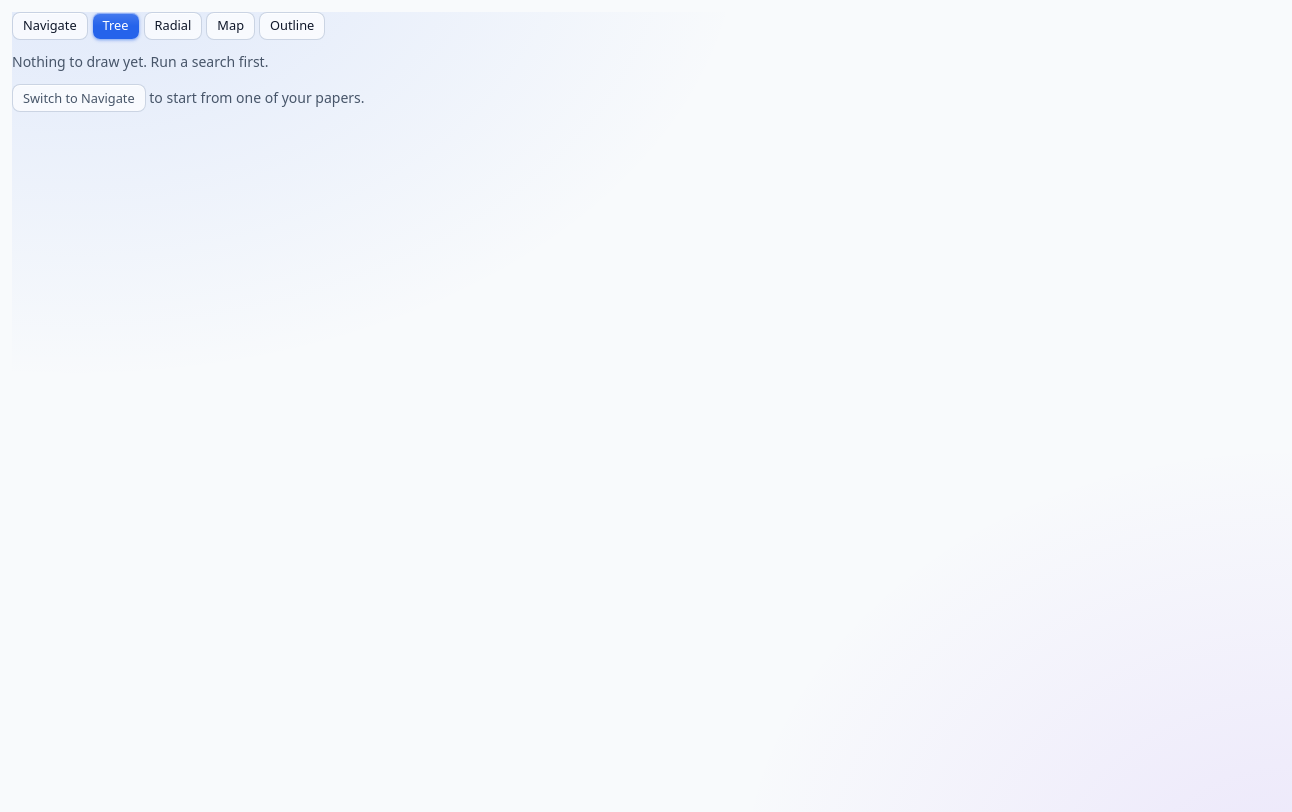
Test: Tree view with no runs hints at Navigate and the button switches
Click the button "Switch to Navigate" at (79, 98), box [12, 84, 146, 112]
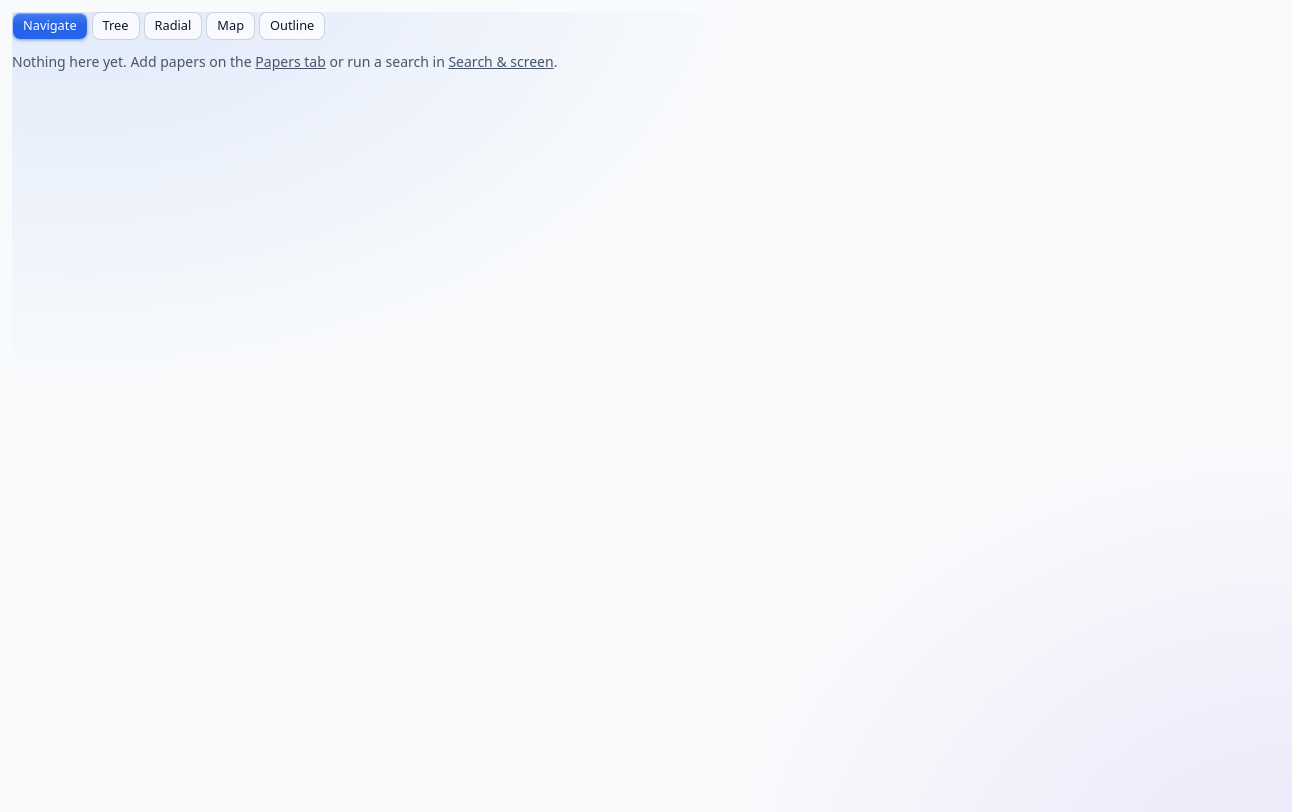
Expected: the text "Nothing here yet" is shown, [12, 52, 255, 71]
